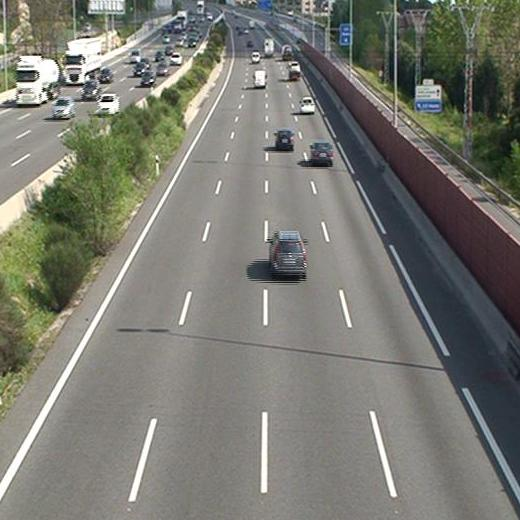car: (269, 232, 308, 277), (310, 140, 334, 164), (275, 129, 295, 153), (297, 98, 315, 114), (289, 61, 301, 73)
small-truck: (287, 60, 303, 82), (263, 37, 273, 58)
van: (252, 69, 267, 89), (251, 52, 261, 63)
